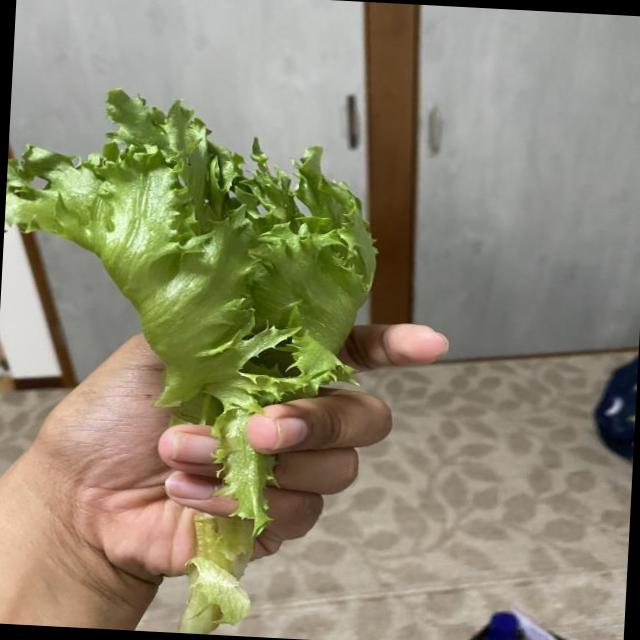Lettuce-Ready-to-Harvest: (5, 89, 376, 634)
